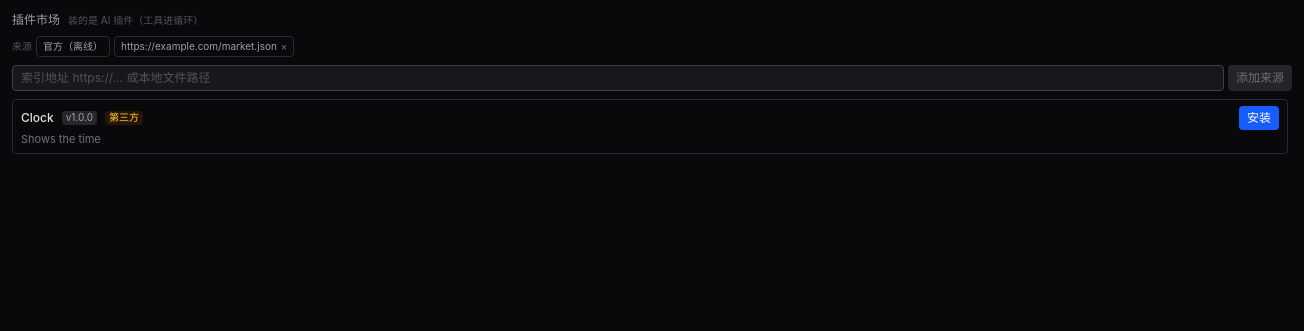
Test: 插件市场面板 › 第三方来源的检查结果显示社区来源；被挡住时确认按钮禁用
Click the button "安装": {"x": 1259, "y": 118} [1239, 106, 1279, 130]
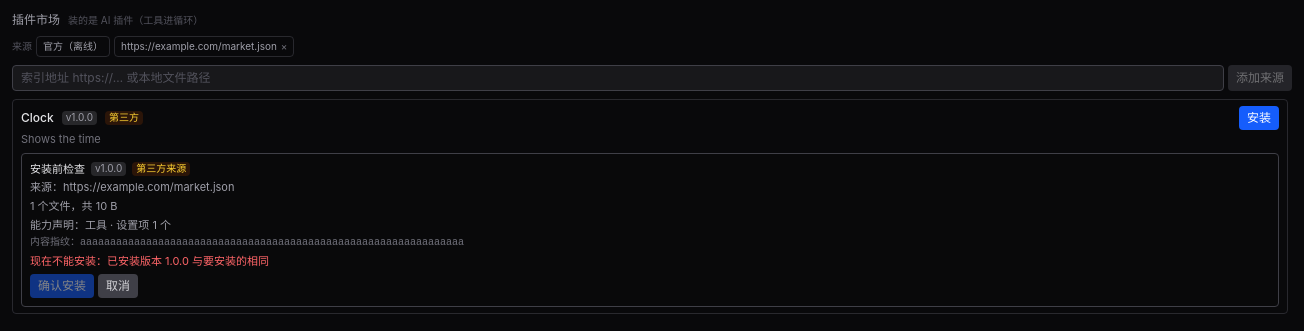
expect the text "安装前检查" is shown: met, box [30, 162, 85, 176]
expect the text "第三方来源" is shown: met, box [132, 162, 190, 176]
expect the button "确认安装" is disabled: met, box [30, 274, 94, 298]
